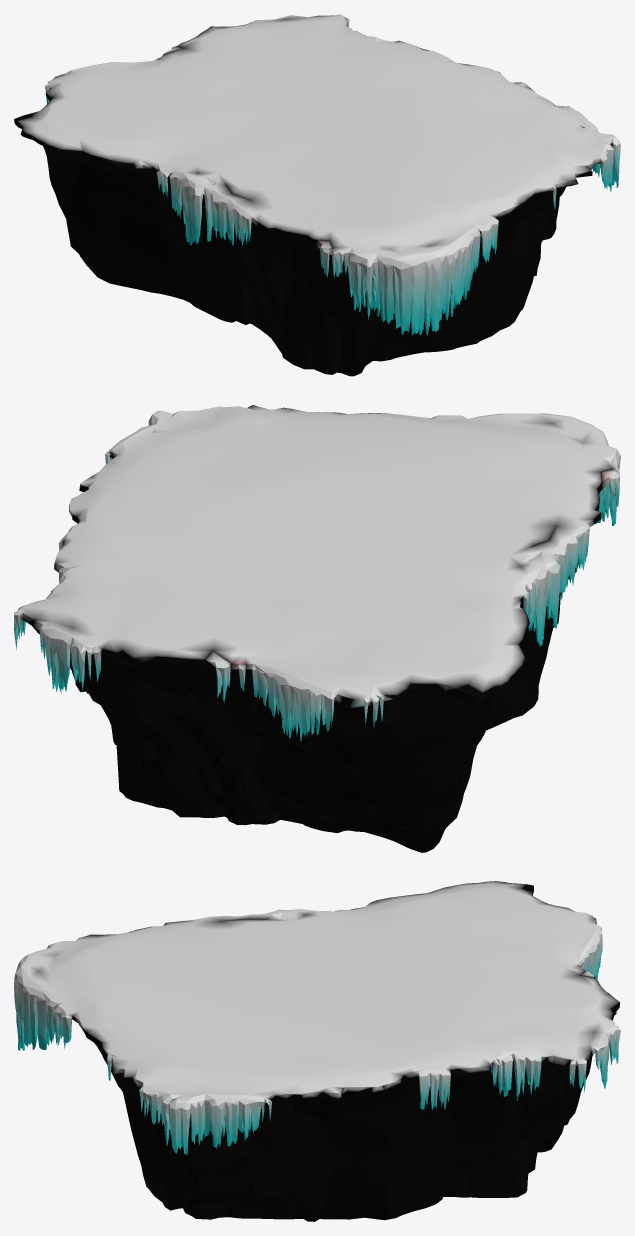
File: CliffIce_3.fbx
3 renders of one model, top to bottom at view 1: azimuth 30°, elevation 25°; view 2: azimuth 150°, elevation 25°; view 3: azimuth 270°, elevation 25°, orthographic. The views are drawn at different scales.
Visible parts, largest first — view 1: CliffIce_3_LOD0; view 2: CliffIce_3_LOD0; view 3: CliffIce_3_LOD0.
Part boxes in pixels (x1,y1,x2,y2): CliffIce_3_LOD0: (14, 14, 620, 376); CliffIce_3_LOD0: (14, 405, 620, 852); CliffIce_3_LOD0: (14, 881, 620, 1221).
Size of what is drawn, in the model's own units: 1705 by 616 by 1953.
